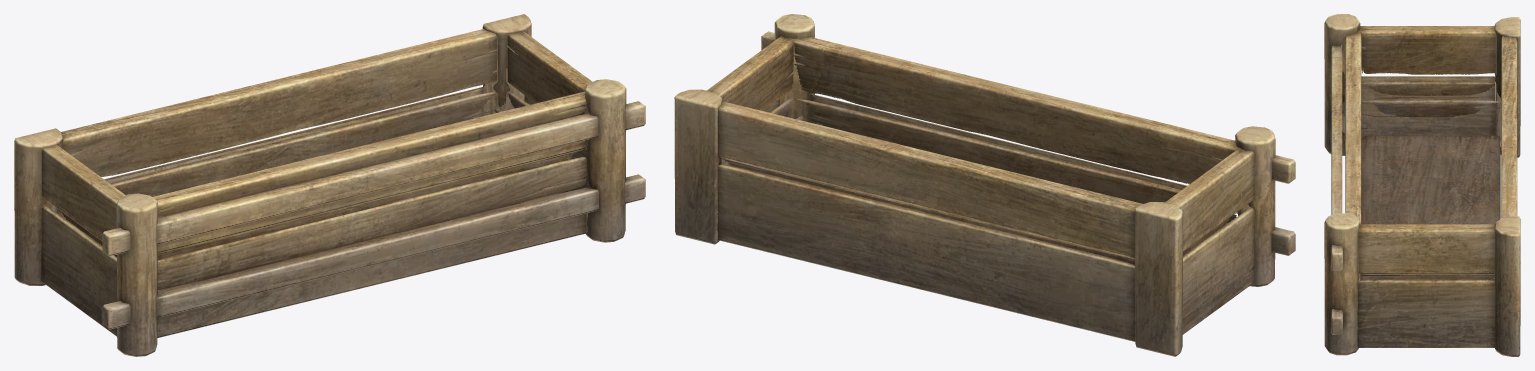
3 views of the same model, side by side, from view 1: azimuth 30°, elevation 25°; view 2: azimuth 150°, elevation 25°; view 3: azimuth 270°, elevation 25° (orthographic). The views are drawn at different scales.
Visible parts, largest first — view 1: SM_Window_Box_01v1_LOD0; view 2: SM_Window_Box_01v1_LOD0; view 3: SM_Window_Box_01v1_LOD0.
Boxes of the visible parts, x1,y1,x2,y2 form: SM_Window_Box_01v1_LOD0: (14, 14, 645, 356); SM_Window_Box_01v1_LOD0: (674, 14, 1295, 356); SM_Window_Box_01v1_LOD0: (1324, 14, 1520, 356).
Size of the model in its own units: 1.49 by 0.3904 by 0.5395.
1 material, 1 textured.
